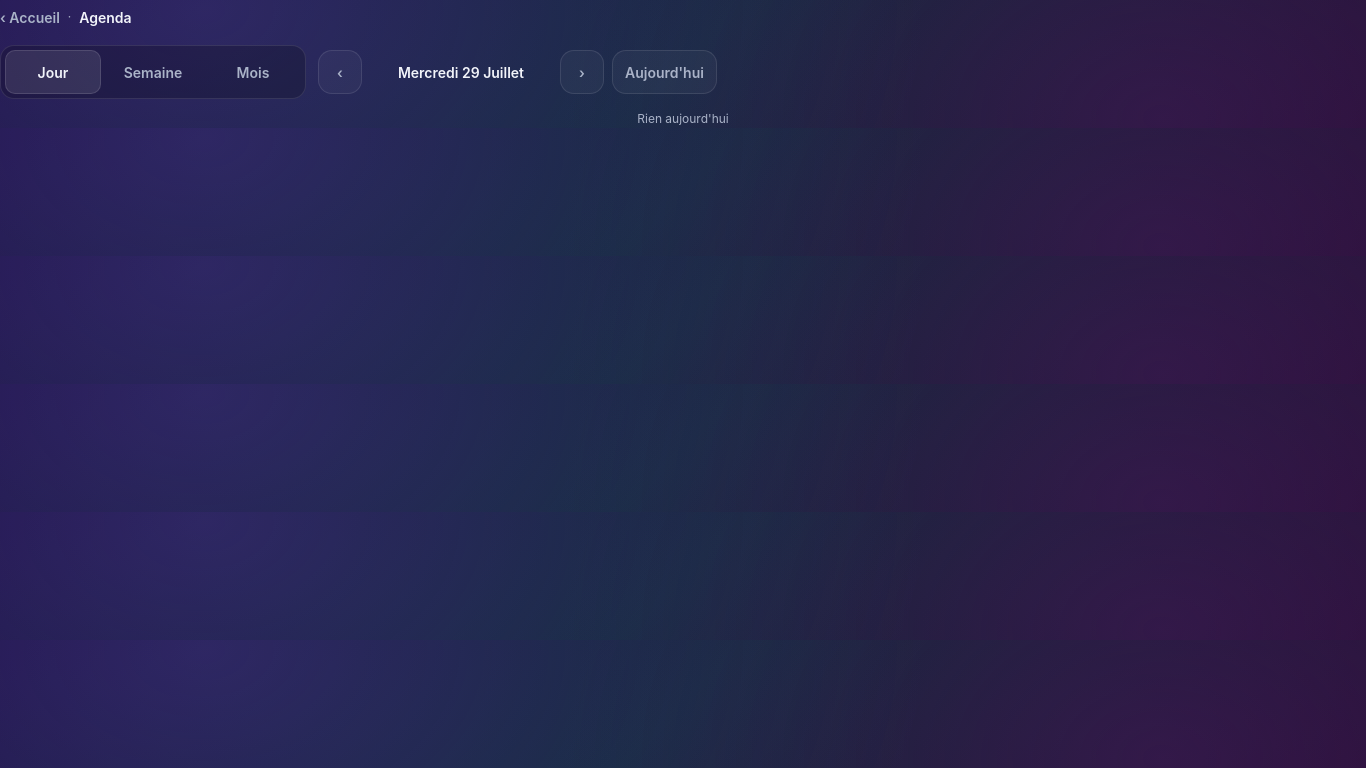
AgendaDetail (Story 10.2) › ramène sur la SEMAINE contenant aujourd'hui, pas sur le jour
The width and height of the screenshot is (1366, 768).
Step 1. Click the tab "Semaine" → click(153, 72), box [105,50,201,94]
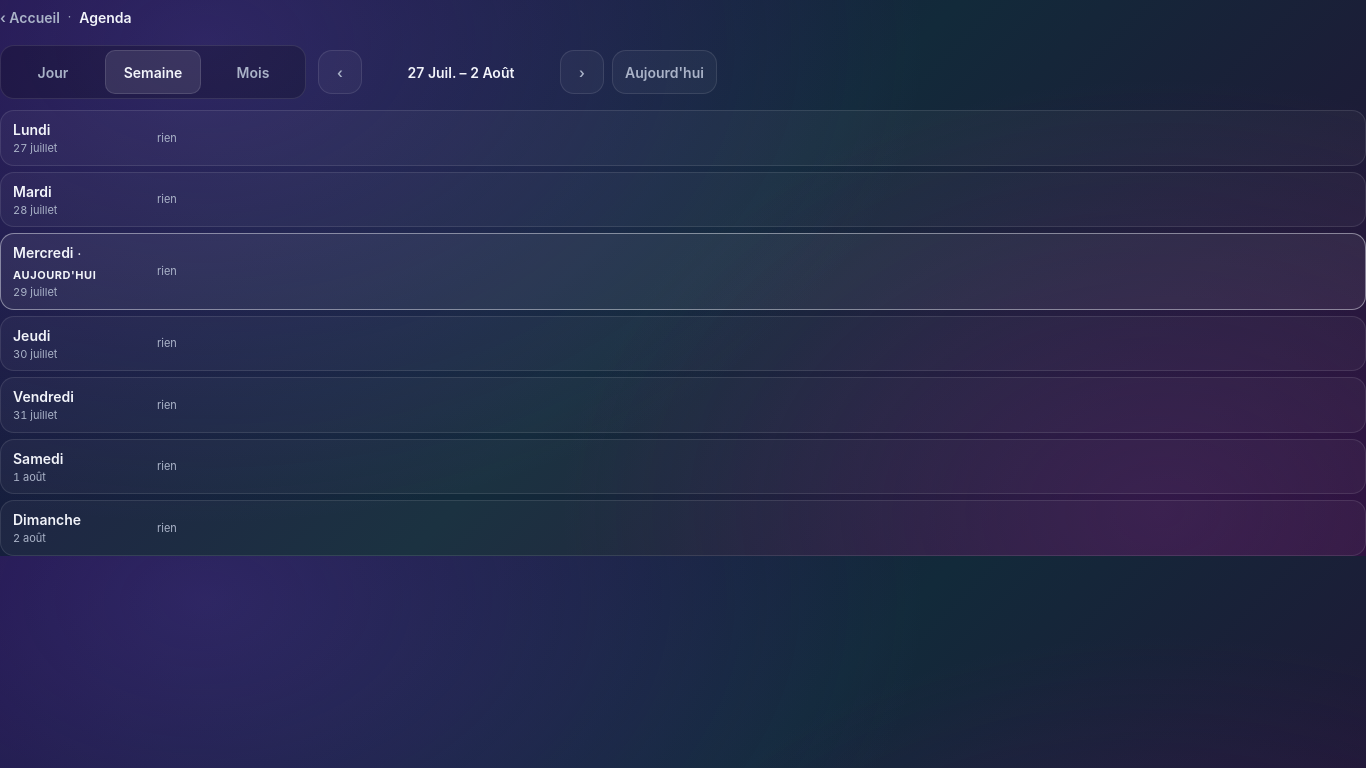
Step 2. Click the button named "période suivante" → click(582, 72), box [560,50,604,94]
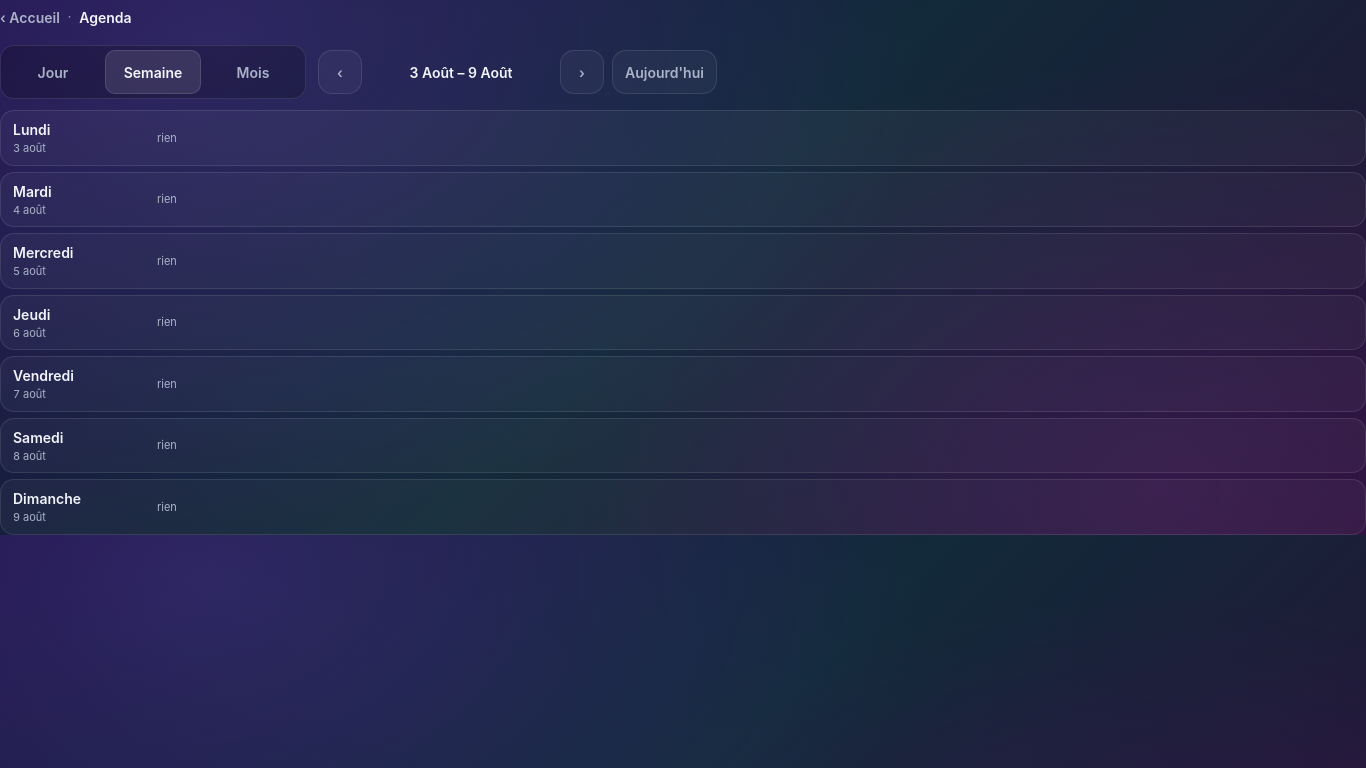
Step 3. Click the button "Aujourd'hui" → click(664, 72), box [612,50,717,94]
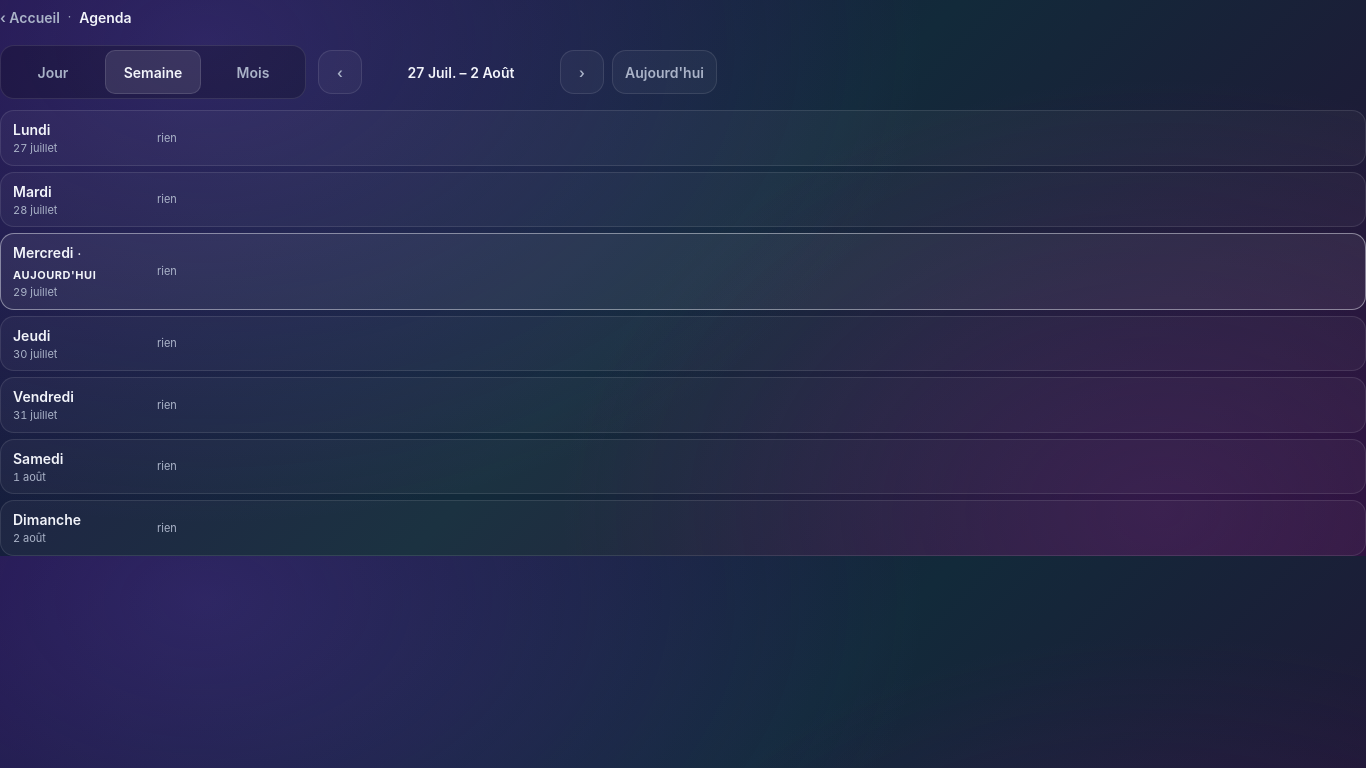
Now the text "27 juil. – 2 août" is shown, box [408,64,514,80]
